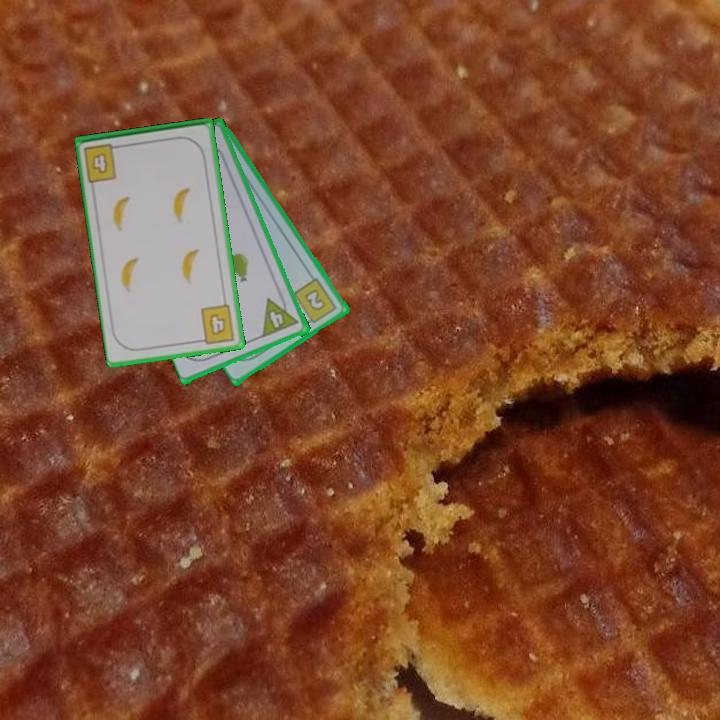2b: (290, 275, 340, 328)
4b: (80, 140, 125, 185), (195, 301, 238, 347)
4p: (259, 297, 289, 338)
